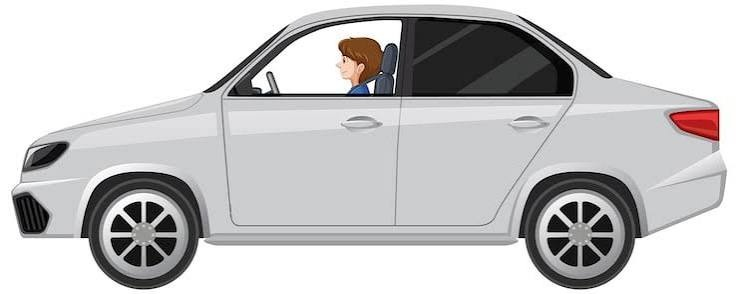car: (12, 6, 732, 292), (18, 9, 738, 286)
